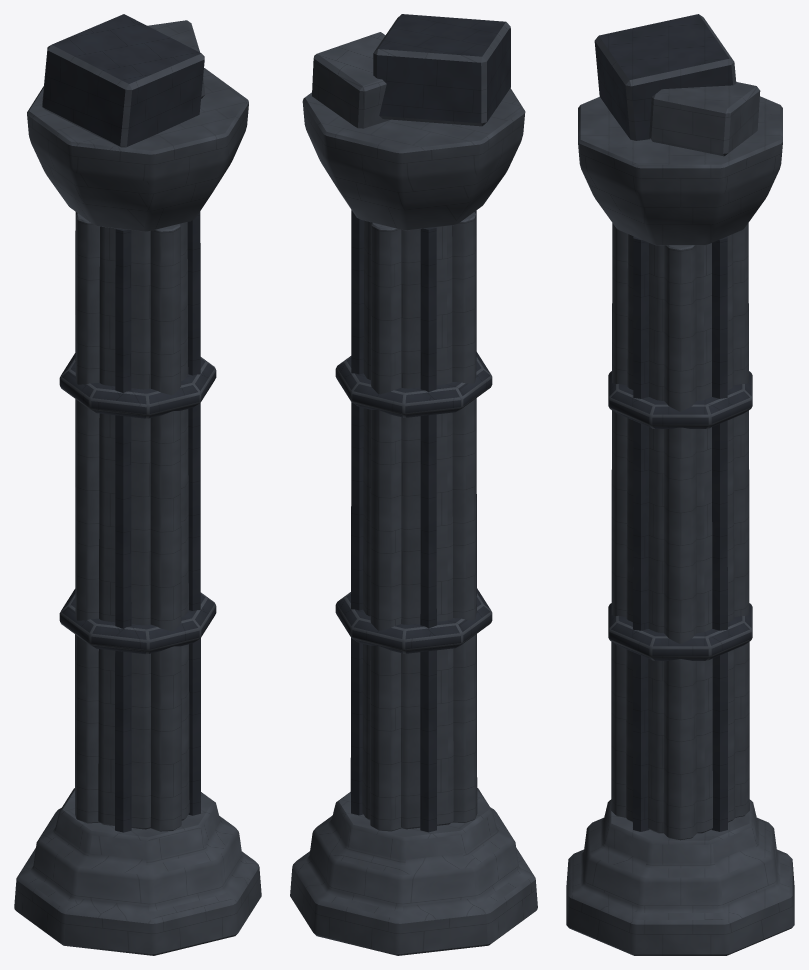
The model's file is kit_gothic_pillar.glb.
3 renders of one model, left to right at view 1: azimuth 30°, elevation 25°; view 2: azimuth 150°, elevation 25°; view 3: azimuth 270°, elevation 25°, orthographic.
Visible parts, largest first — view 1: GothicPillar; view 2: GothicPillar; view 3: GothicPillar.
Part boxes in pixels (bbox=[...]): GothicPillar: bbox=[14, 14, 261, 955]; GothicPillar: bbox=[290, 14, 537, 955]; GothicPillar: bbox=[566, 14, 794, 955].
Bounding box in the file's own units: 1.7 × 7.03 × 1.7.
2 materials, 2 textured.
